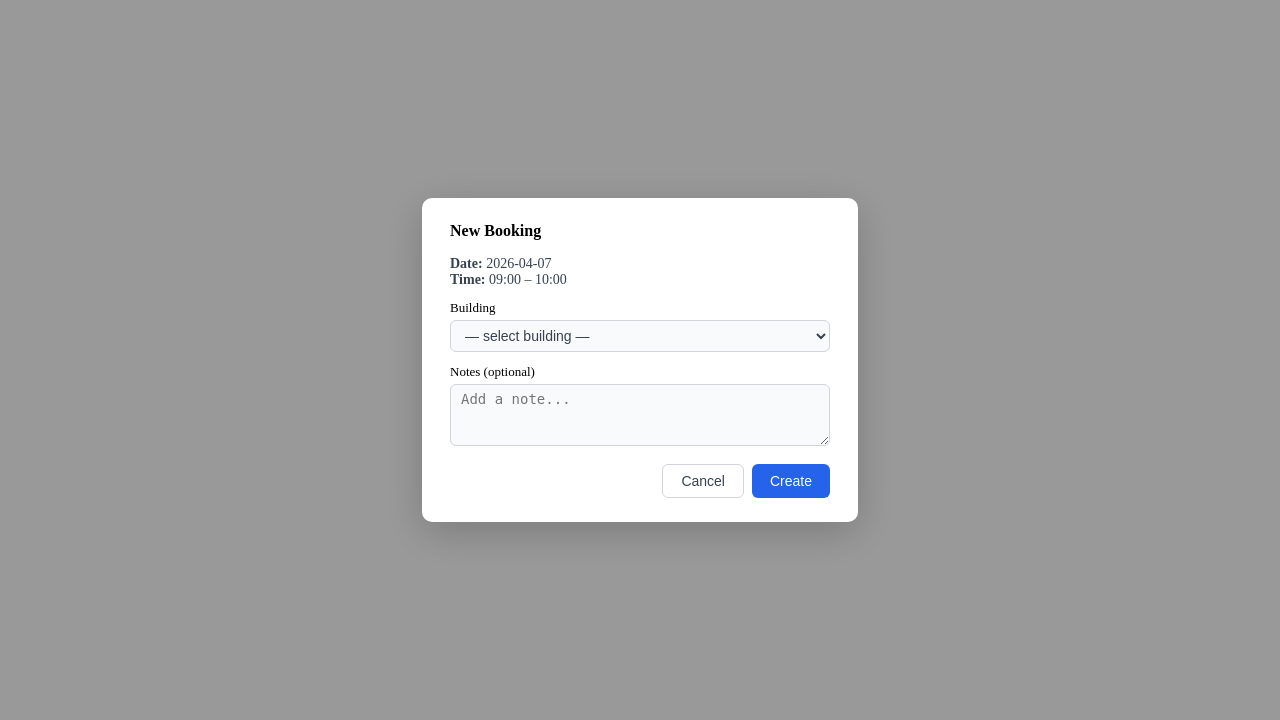
BookingModal — create mode (no group, All buildings) › shows validation error when submitting without selecting a building
The image size is (1280, 720).
Click the button "Create" at [791, 481], box [752, 464, 830, 498]
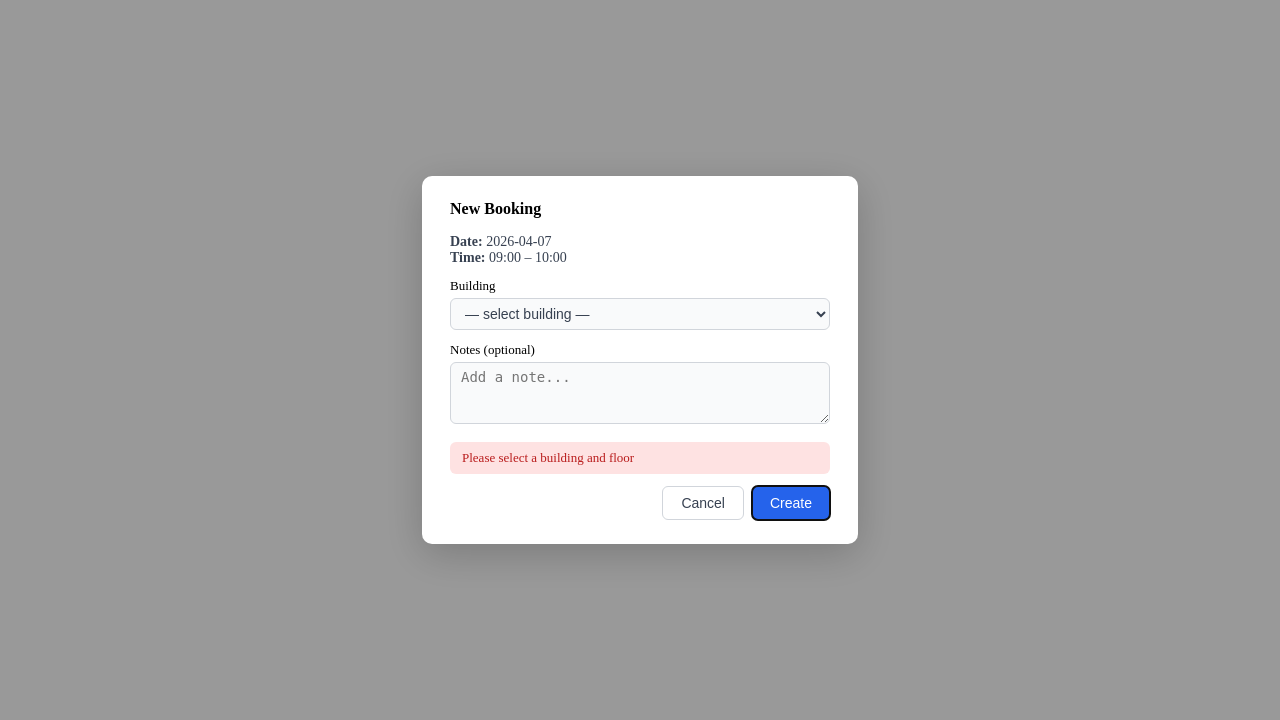
expect the text "Please select a building and floor" is shown: met, box [450, 442, 830, 474]
